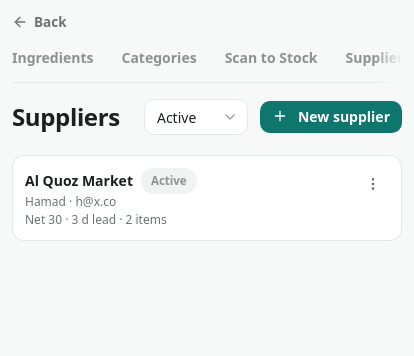
phone card lists › suppliers: a card opens the supplier, its menu keeps edit, archive and delete, the table is md and up
Expected: the list with class "space-y-2" is shown, [12,155,402,241]
Expected: the text "Net 30 · 3 d lead · 2 items" is shown, [25,210,167,228]
Click the button named "More actions for Al Quoz Market".
click(373, 184)  # box [357,168,389,200]
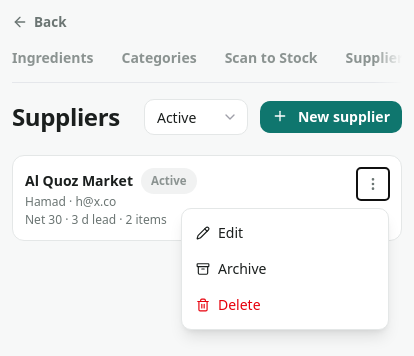
Result: the menu item "Edit" is shown at [182,215,388,251]
Result: the menu item "Archive" is shown at [182,251,388,287]
Result: the menu item "Delete" is shown at [182,287,388,323]
